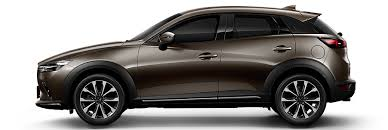pickup: (35, 5, 357, 128)
